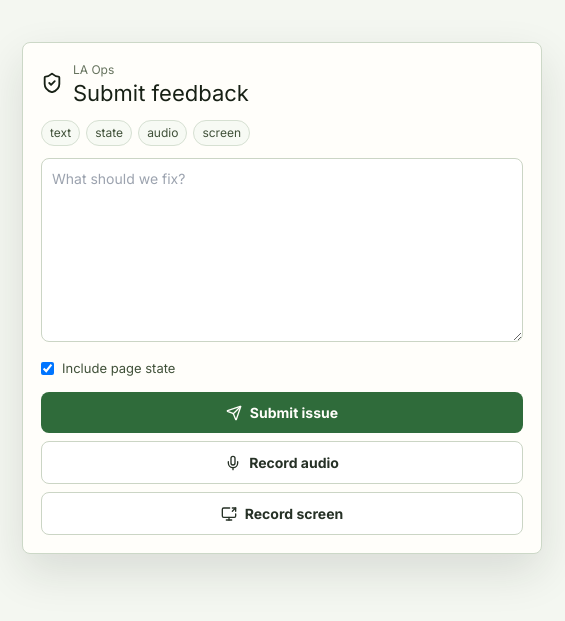
Test: FeedbackInviteEntry › strips the token and submits a text issue with an opted-in state snapshot
Expected: the heading "Submit feedback" is shown, left=73, top=81, right=249, bottom=106
Step 1. Type "The takeoff total looks wrong." into the text box with placeholder "What should we fix?" → (282, 250), box left=41, top=158, right=523, bottom=342
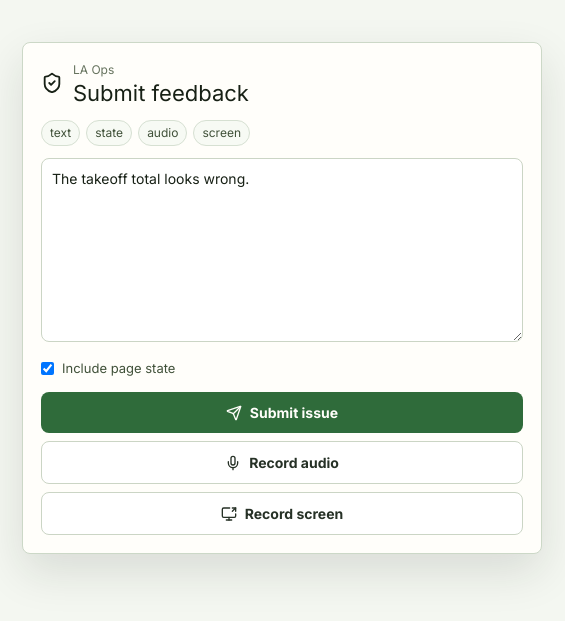
Step 2. Click the button "Submit issue" → (282, 413), box left=41, top=392, right=523, bottom=433
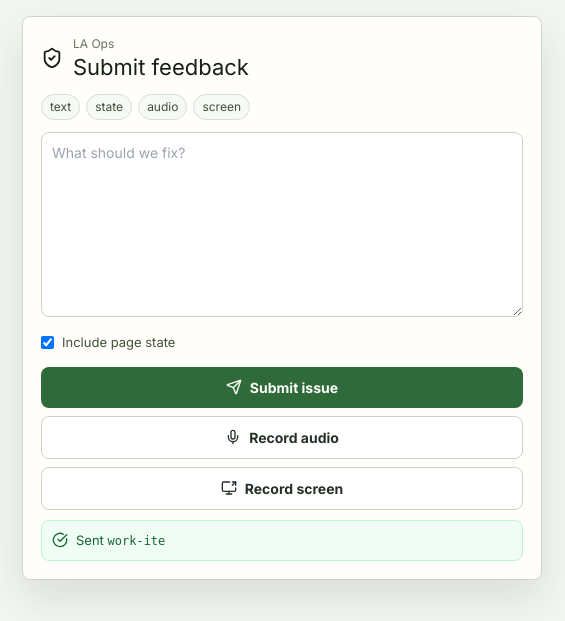
Expected: the text "Sent" is shown, left=76, top=532, right=108, bottom=548
